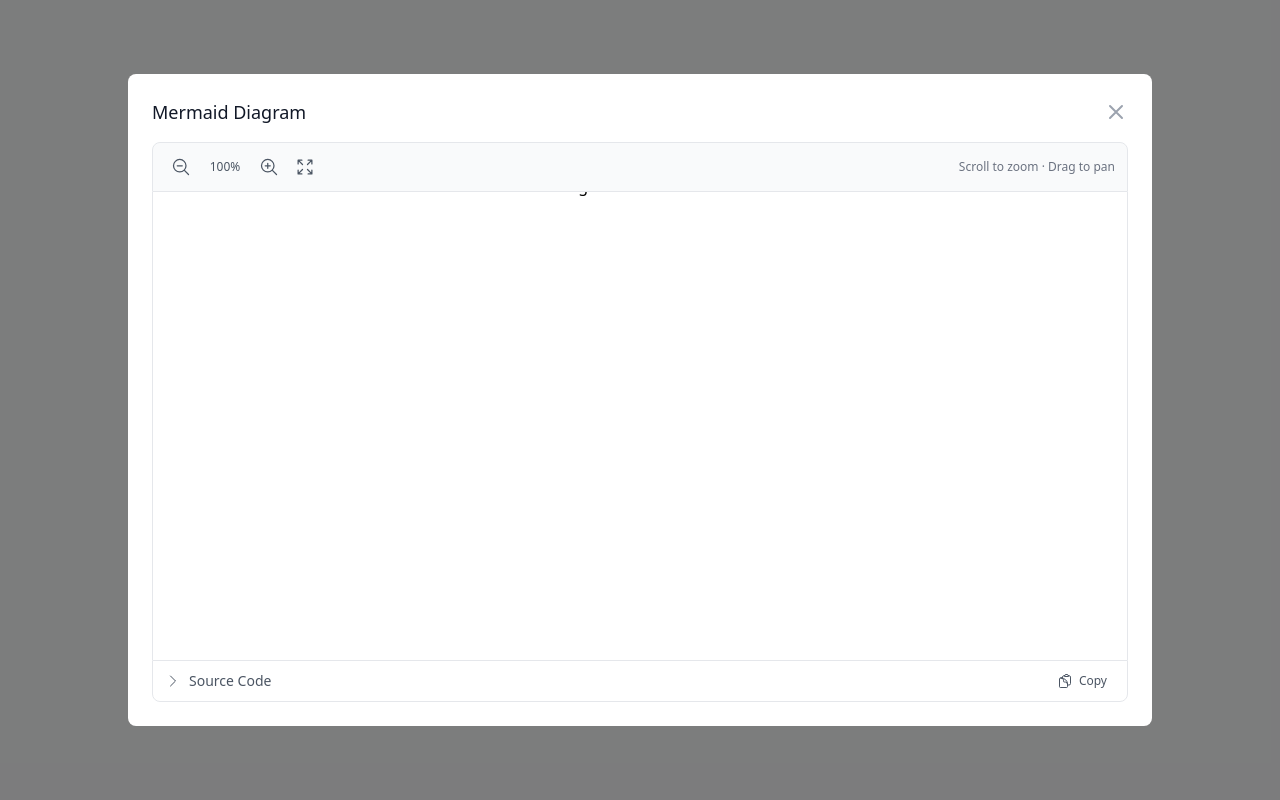
Test case: MermaidDiagramModal › resets view when reset button is clicked
Click the button named "Zoom in" at [269, 167], box [253,151,285,183]
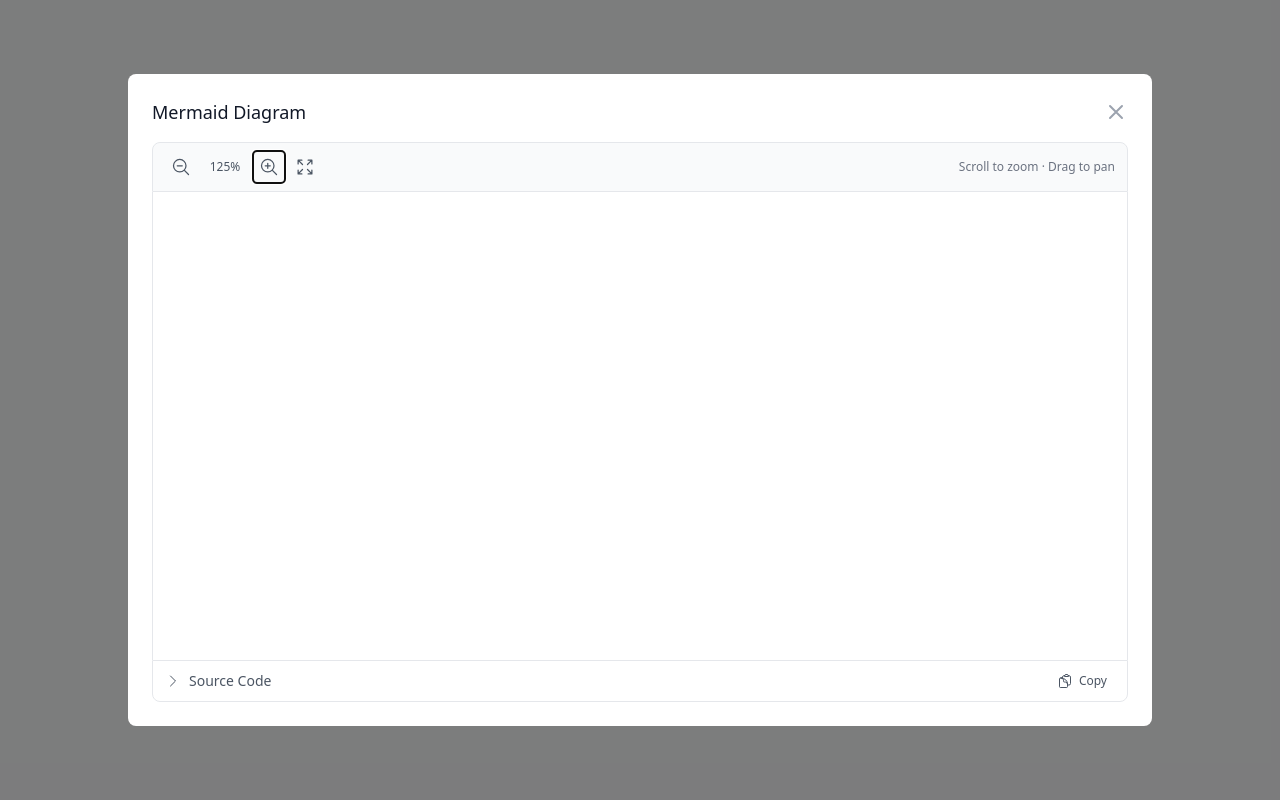
Click the button named "Zoom in" at [269, 167], box [253,151,285,183]
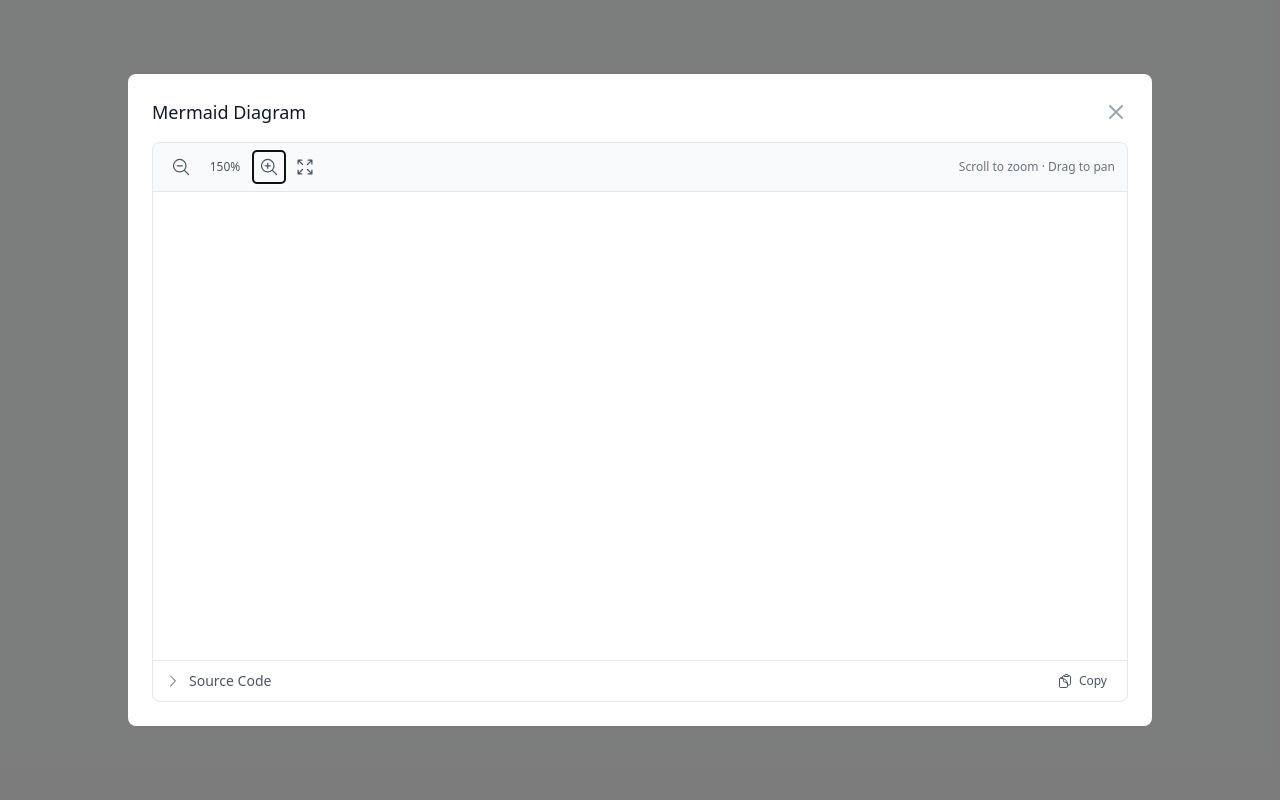
expect the text "150%" is shown: met, box [210,158,240,175]
Click the button named "Reset view" at [305, 167], box [289,151,321,183]
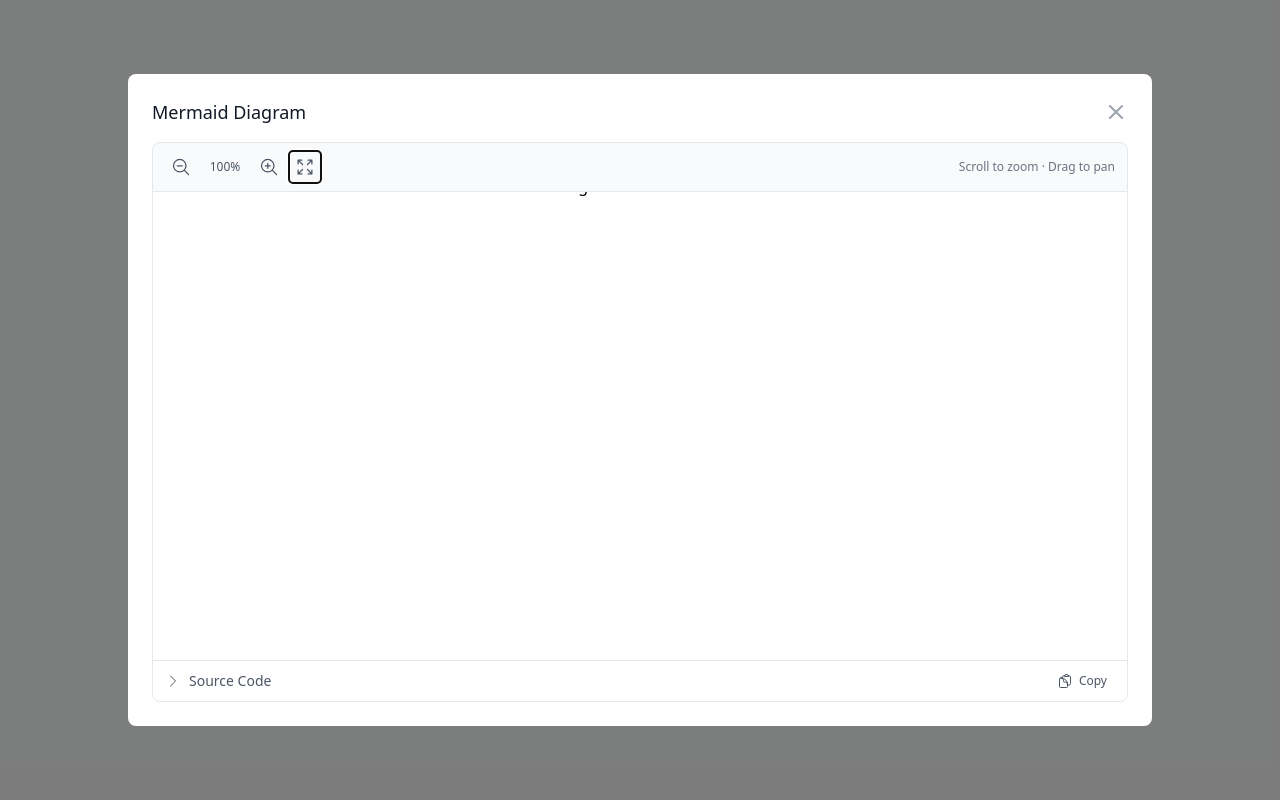
expect the text "100%" is shown: met, box [210,158,240,175]
